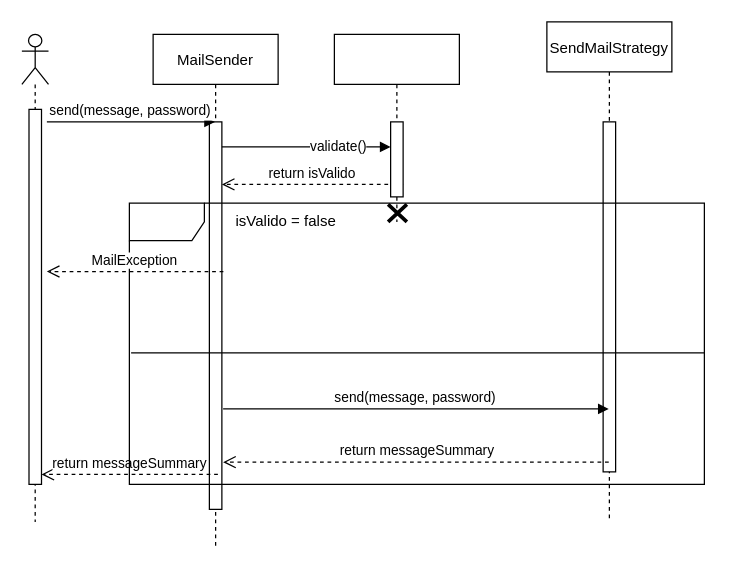
This 729x569 diagram has some shape labels left out. The box of each missing label's shape, as (x1, y1, x2, y2) in pixels:
frame: (128, 202, 704, 484)
MessageValidator: (333, 33, 459, 222)
